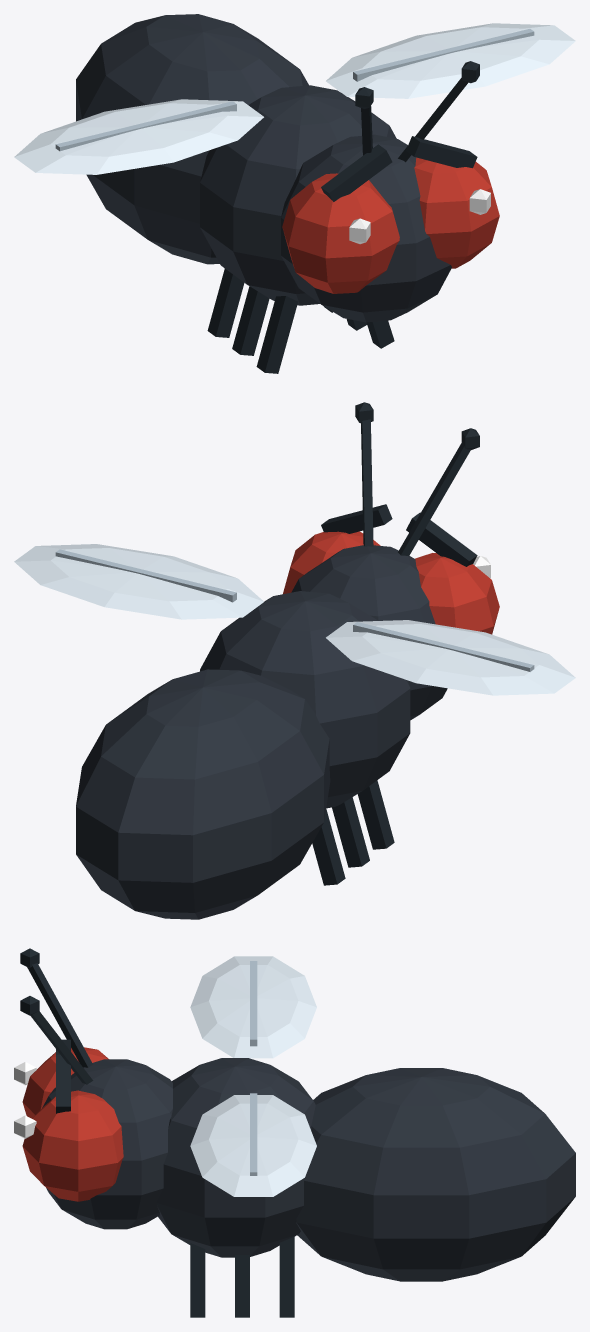
File: fliege.glb
3 renders of one model, top to bottom at view 1: azimuth 30°, elevation 25°; view 2: azimuth 150°, elevation 25°; view 3: azimuth 270°, elevation 25°, orthographic. The views are drawn at different scales.
Parts seen in each view (by area): view 1: body-m, wing-0-m, wing-1-m; view 2: body-m, wing-0-m, wing-1-m; view 3: body-m, wing-0-m, wing-1-m.
Part boxes in pixels (x1,y1,x2,y2): body-m: [76, 14, 499, 373]; wing-0-m: [14, 99, 263, 174]; wing-1-m: [326, 23, 575, 98]; body-m: [76, 402, 499, 919]; wing-0-m: [326, 620, 575, 695]; wing-1-m: [14, 544, 263, 619]; body-m: [14, 948, 575, 1317]; wing-0-m: [190, 956, 316, 1058]; wing-1-m: [190, 1093, 316, 1196].
Bounding box in the file's own units: 1.53 × 0.9492 × 1.51.
